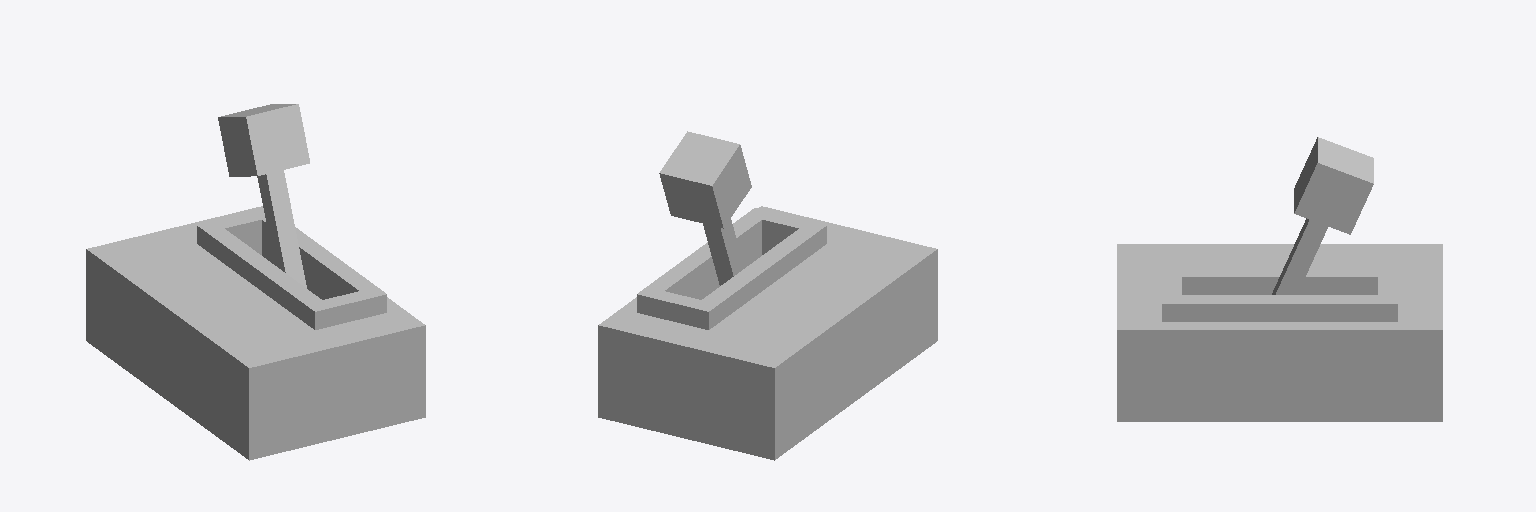
File: BUTON.obj
3 views of the same model, side by side, from view 1: azimuth 30°, elevation 25°; view 2: azimuth 150°, elevation 25°; view 3: azimuth 270°, elevation 25° (orthographic).
Visible parts, largest first — view 1: button_cube.006; view 2: button_cube.006; view 3: button_cube.006.
Part boxes in pixels (x1,y1,x2,y2): button_cube.006: (86, 104, 425, 460); button_cube.006: (598, 131, 937, 460); button_cube.006: (1117, 137, 1442, 421).
Bounding box in the file's own units: 1.84 × 2.47 × 2.95.